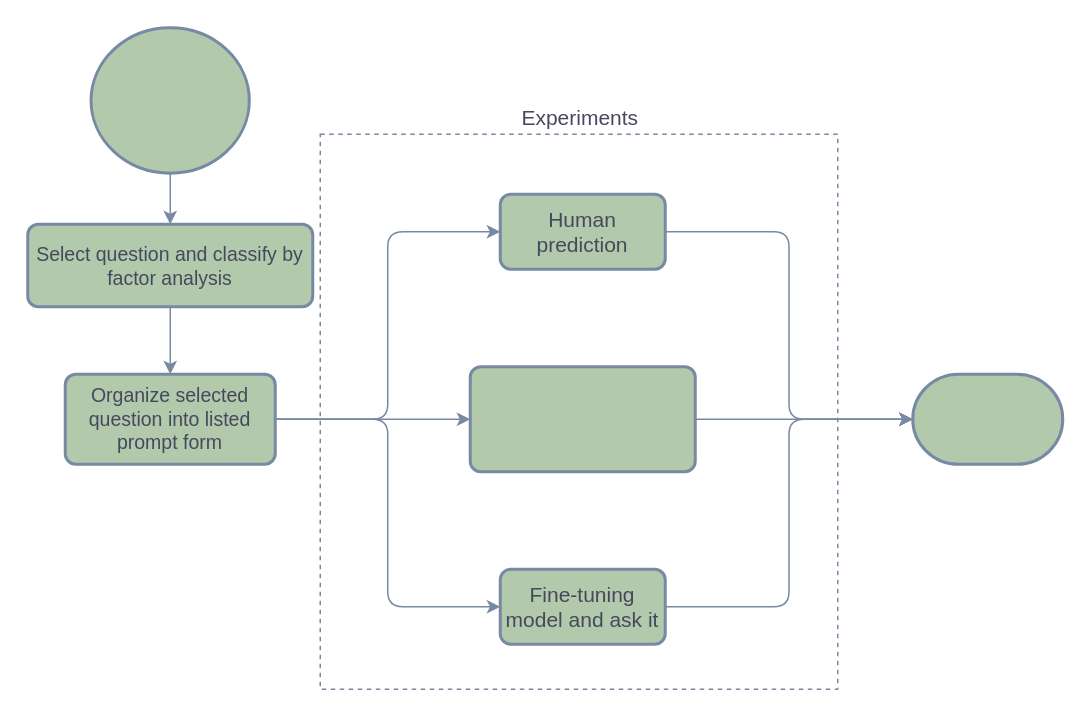
This 1089x716 diagram has some shape labels left out. The shapes that lost their labels are listed below. From the top down, each one's box as (x1, y1, x2, y2) in pixels, then its label:
(89, 26, 250, 174): Questionnaire data
(468, 364, 696, 472): Directly ask ChatGPT through API
(910, 372, 1064, 465): Result comparison
